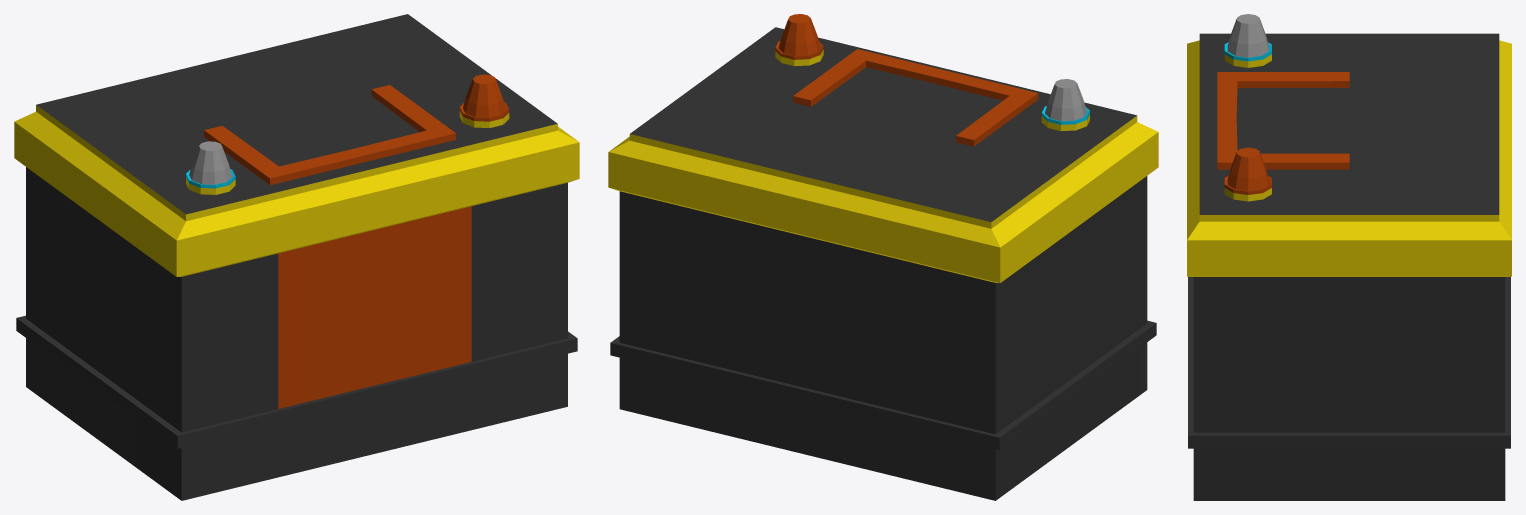
Rendered from Battery.fbx.
The picture shows the model from 3 angles, left to right: view 1: azimuth 30°, elevation 25°; view 2: azimuth 150°, elevation 25°; view 3: azimuth 270°, elevation 25°; orthographic projection. The views are drawn at different scales.
Visible parts, largest first — view 1: polySurface2; view 2: polySurface2; view 3: polySurface2.
Boxes of the visible parts, <box> form: polySurface2: <box>14,14,579,500</box>; polySurface2: <box>608,14,1158,500</box>; polySurface2: <box>1187,14,1511,500</box>.
Bounding box in the file's own units: 5.65 × 4.3 × 3.95.
